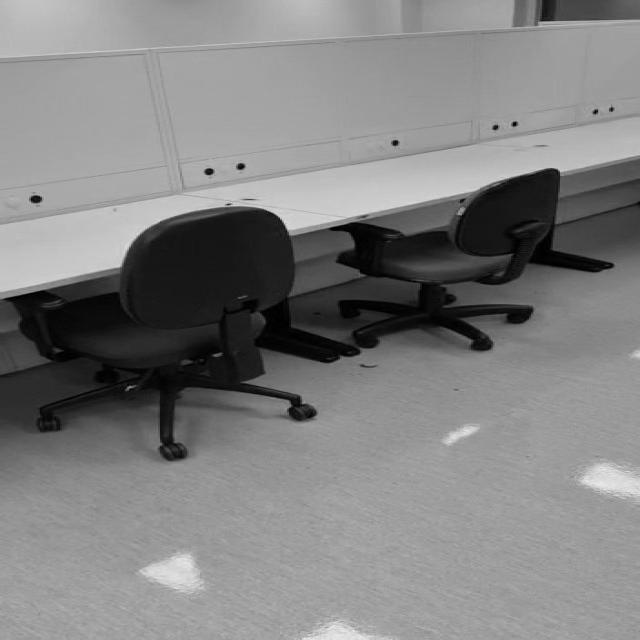cadeira-azul: (10, 206, 317, 460)
